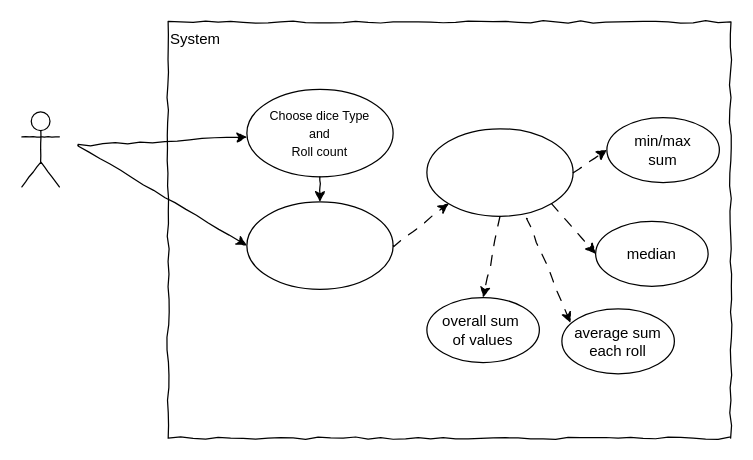
This 753x460 diagram has some shape labels left out. The centre of each missing label's shape, as x and y in pixels:
"Actor" goes at [40,149].
"Roll dice" goes at [319,245].
"Save roll results" goes at [499,172].
